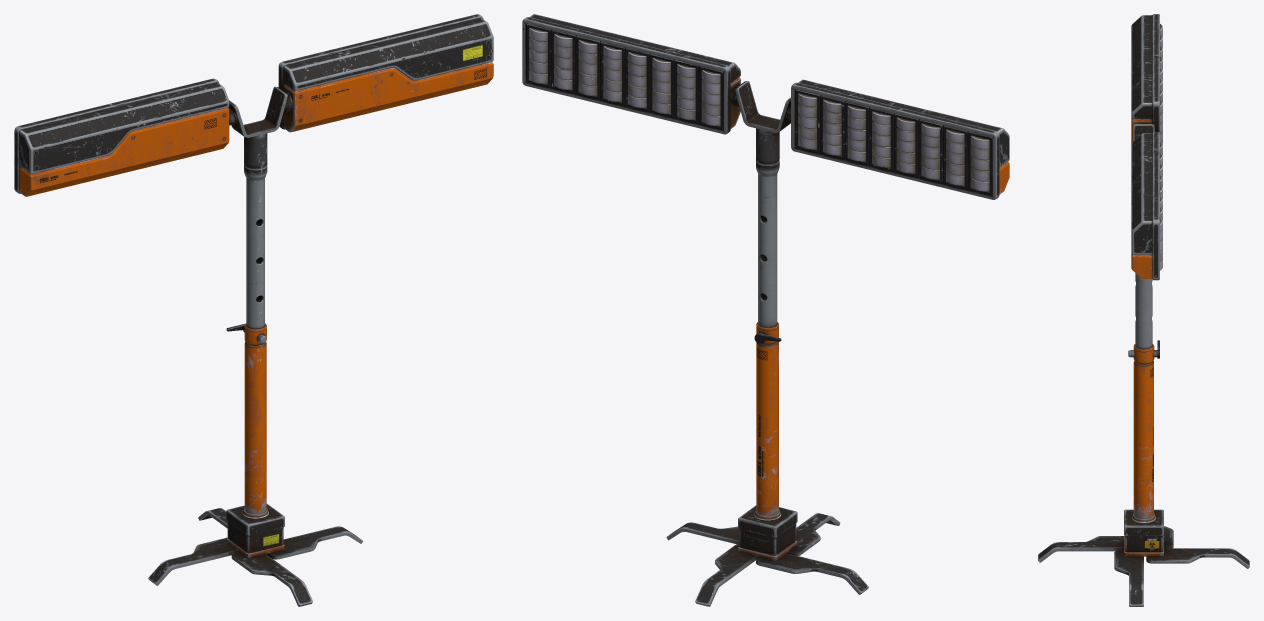
The model's file is SM_Light_Style01.fbx.
The picture shows the model from 3 angles, left to right: view 1: azimuth 30°, elevation 25°; view 2: azimuth 150°, elevation 25°; view 3: azimuth 270°, elevation 25°; orthographic projection. The views are drawn at different scales.
Visible parts, largest first — view 1: SM_Light_Style01_LOD0; view 2: SM_Light_Style01_LOD0; view 3: SM_Light_Style01_LOD0.
Boxes of the visible parts, x1,y1,x2,y2 form: SM_Light_Style01_LOD0: [14, 14, 493, 606]; SM_Light_Style01_LOD0: [522, 14, 1009, 606]; SM_Light_Style01_LOD0: [1038, 14, 1249, 606].
Bounding box in the file's own units: 145 × 62.37 × 145.
Materials: 1 (1 with a texture image).
